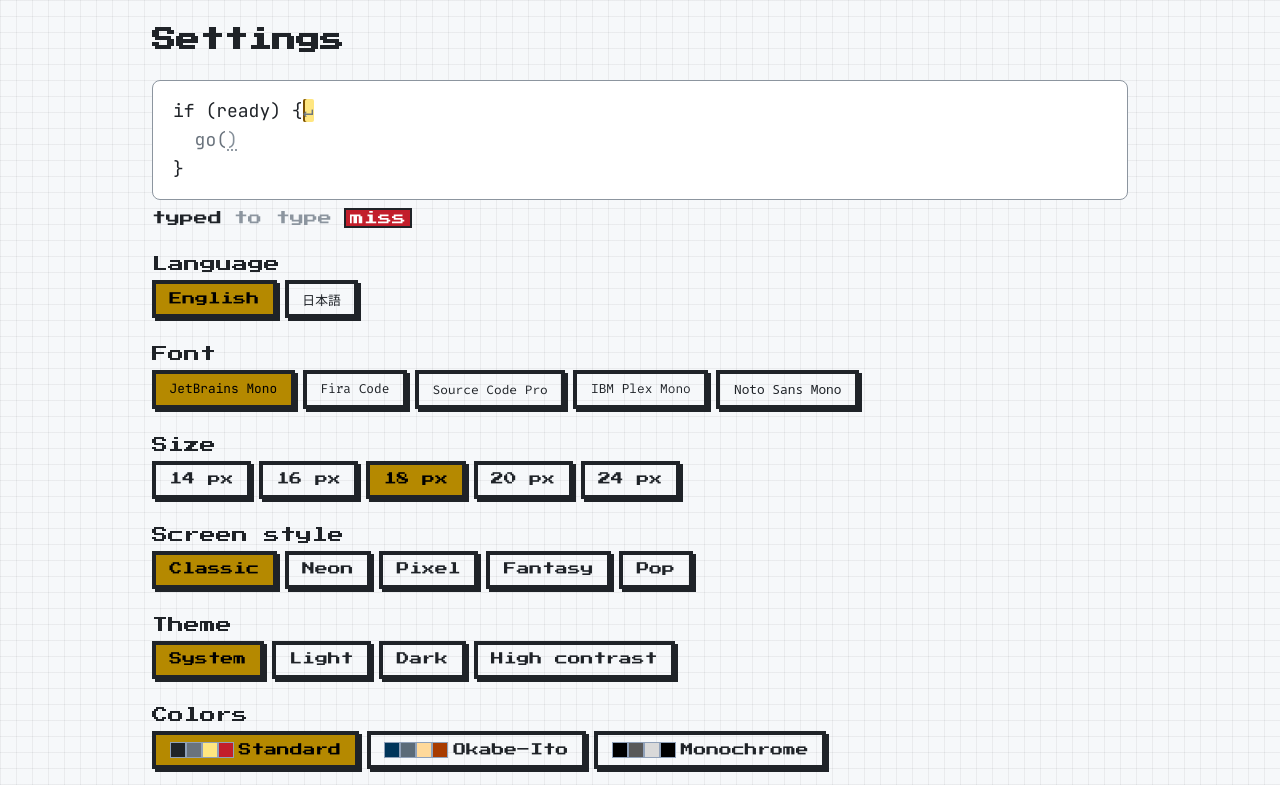
the appearance settings screen › says so, and keeps the old choice, when saving fails
Click the button "14 px" at (202, 480), box [152,460,251,499]
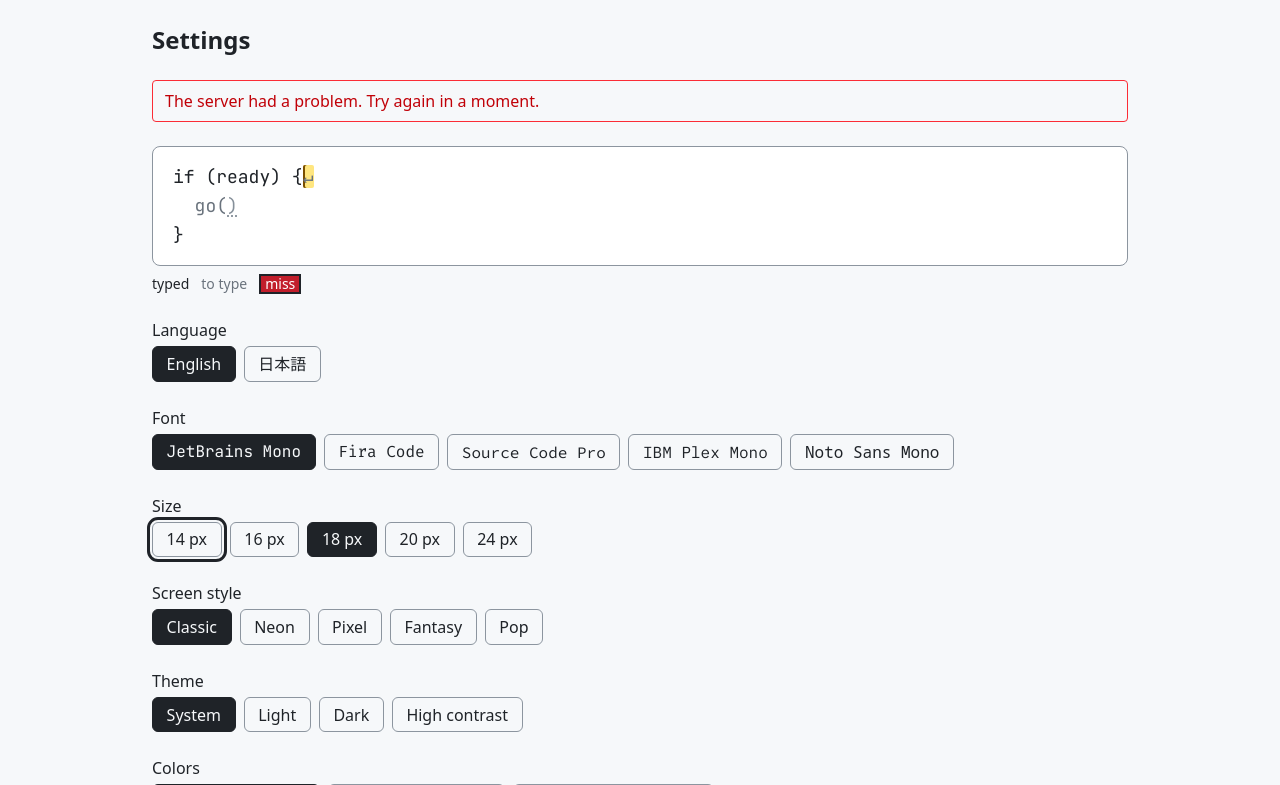
Check: the message reads "The server had a problem. Try again in a moment.", box [165,90,539,112]
